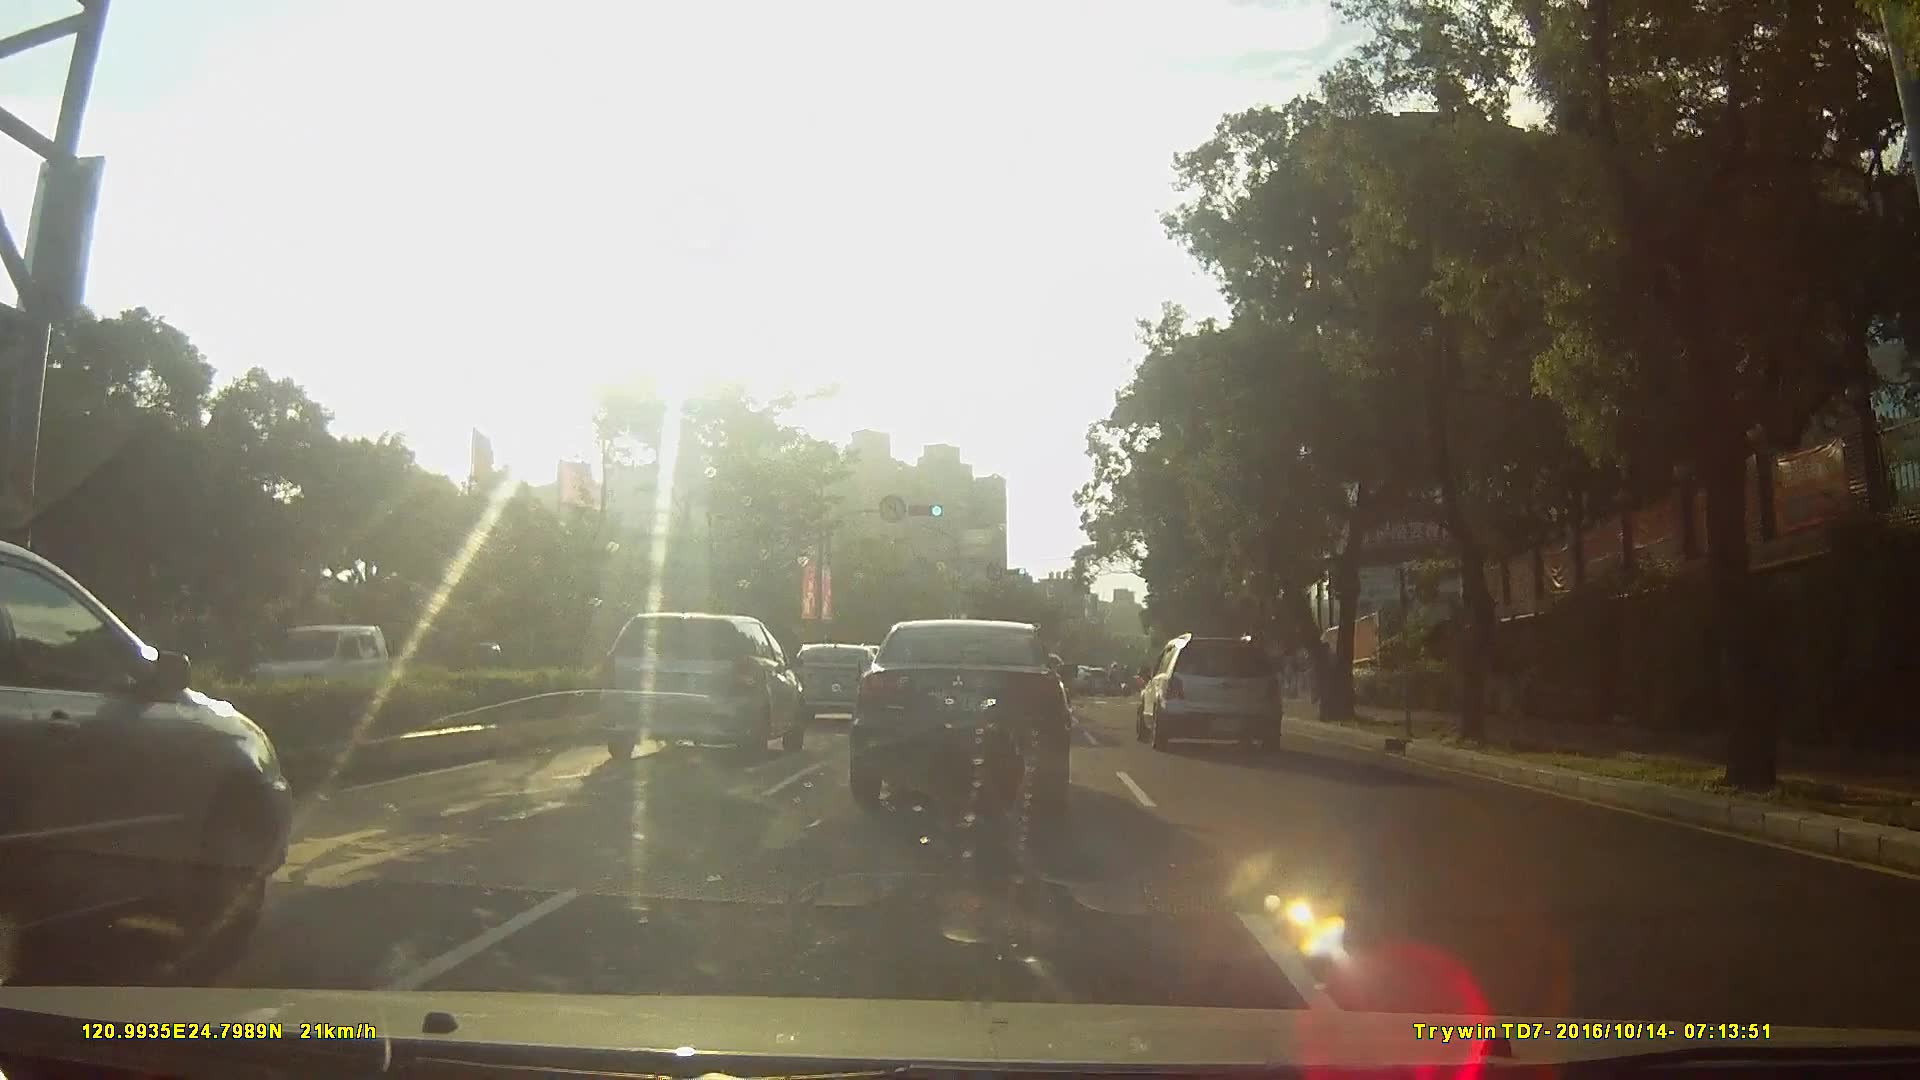vehicle: (1, 538, 316, 994), (851, 617, 1073, 818), (589, 608, 802, 758), (1135, 622, 1298, 745), (247, 624, 397, 709), (781, 638, 894, 720), (1073, 663, 1108, 694)
